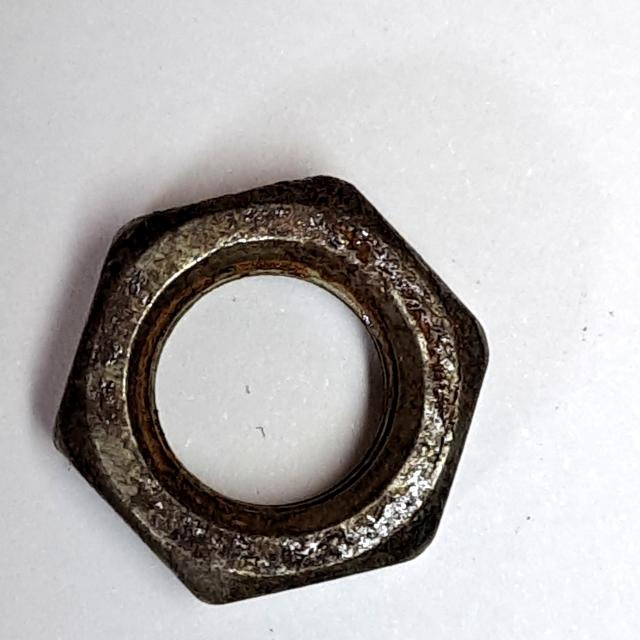Rust: (38, 169, 499, 614)
